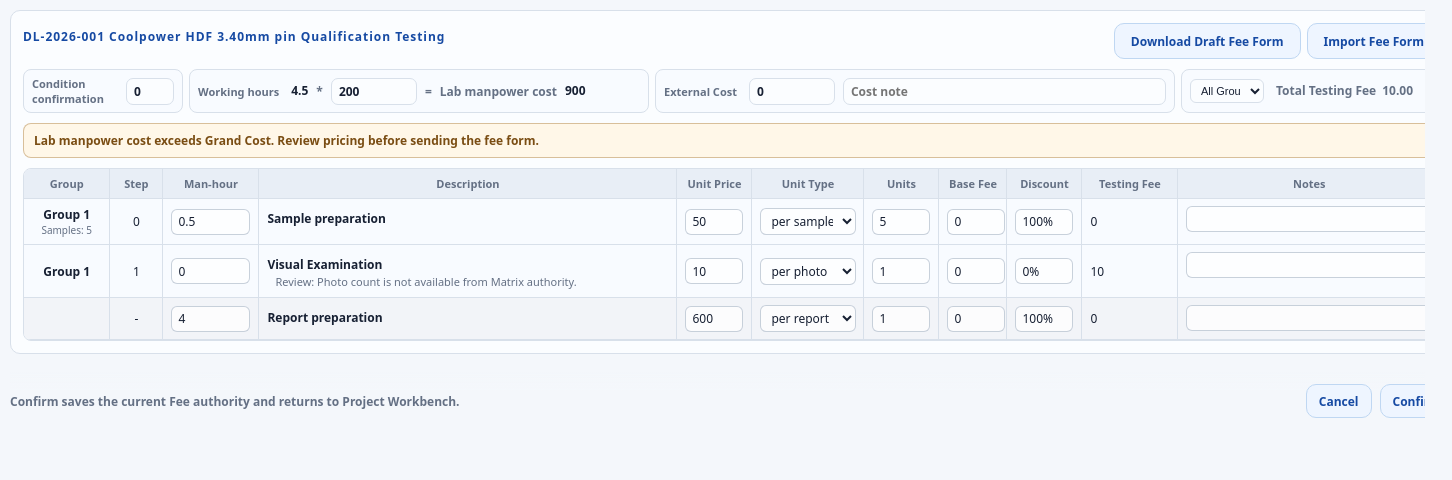
Test: FeeEvaluationReviewExportPage › stays on Fee Evaluation when Confirm fails
Click the button "Confirm" at (1410, 401), box [1380,384,1440,418]
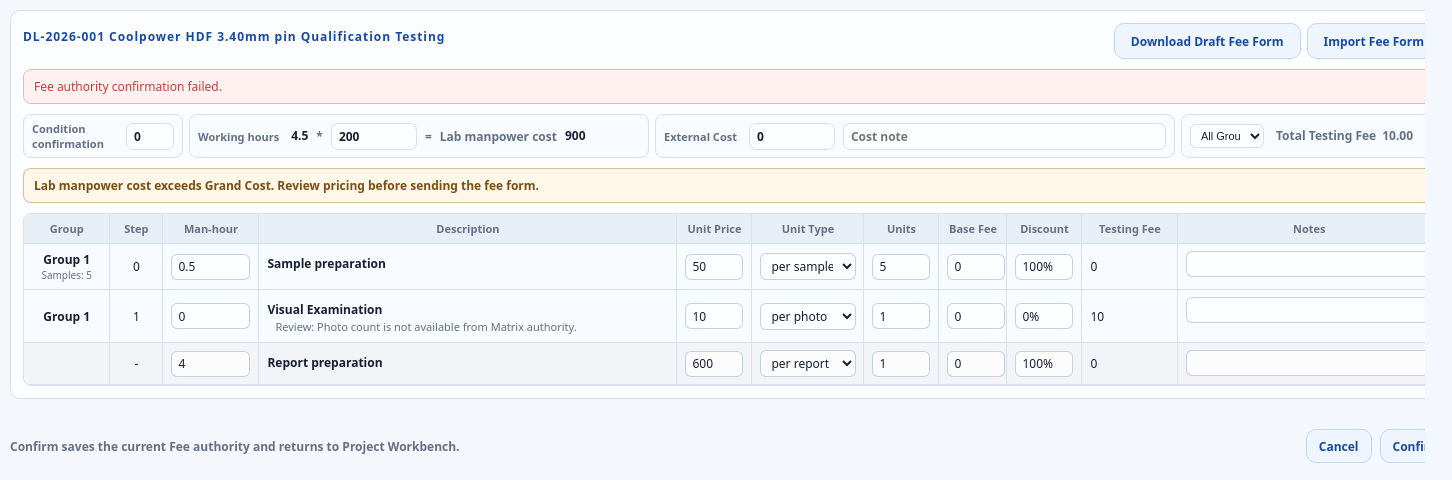
Check: the text "Fee authority confirmation failed." is shown, box [23,69,1441,104]
